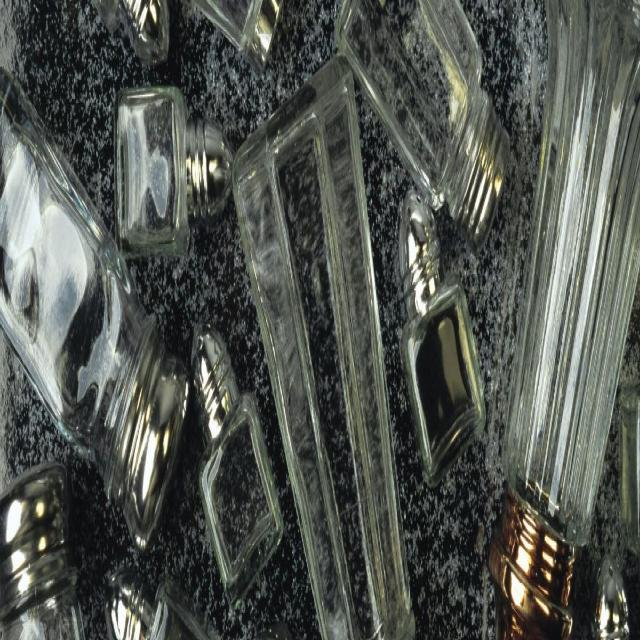electronic: (112, 73, 234, 274)
